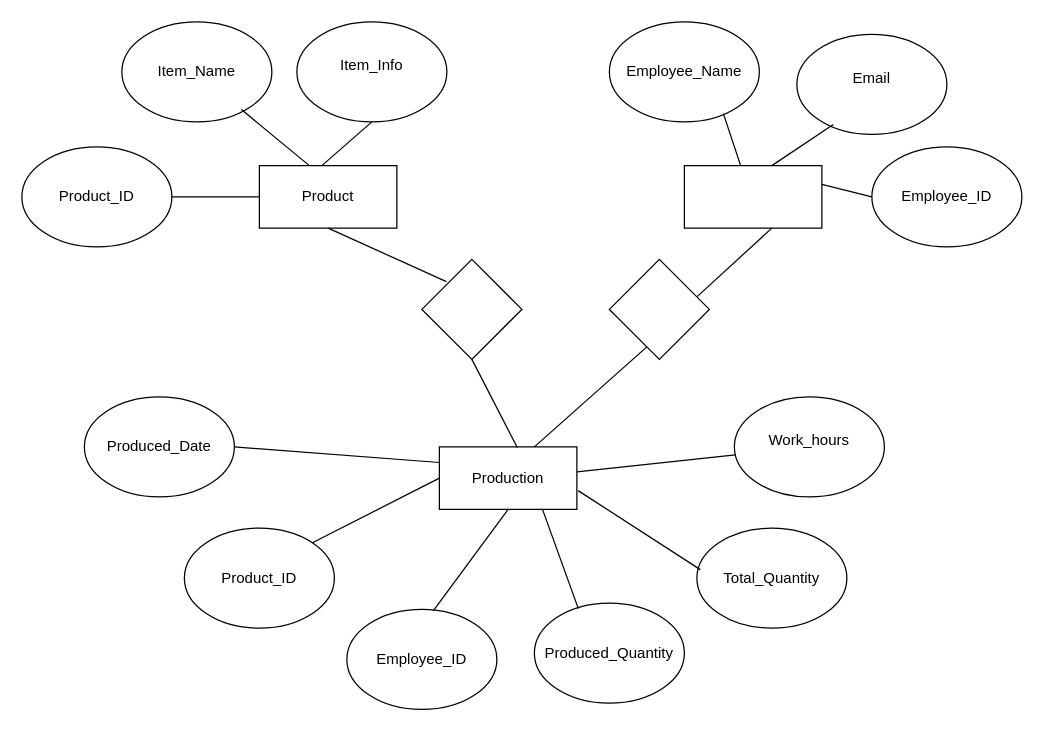
The diagram is 1044 pixels wide and 731 high, and some of its shapes have lost their labels. Here are the shapes that lost their labels. From the top down, the centre of each, then its label:
At point (752, 196): "Employee".
At point (471, 308): "Has".
At point (658, 308): "Manage".
